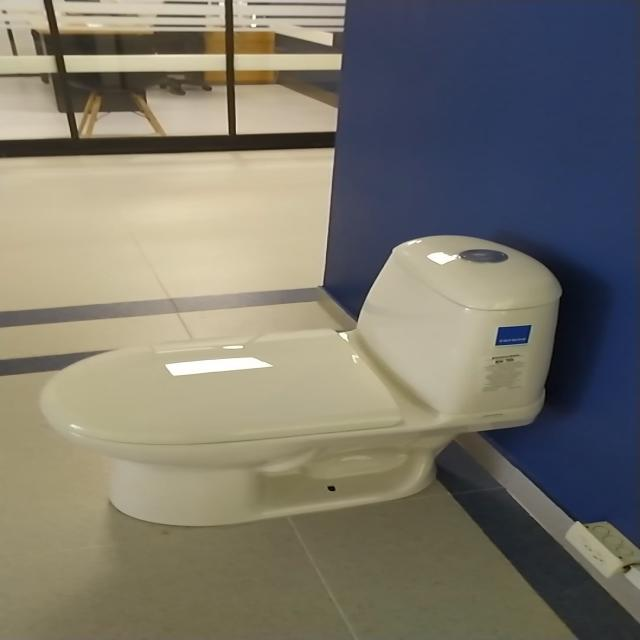toilet: (38, 234, 563, 527)
